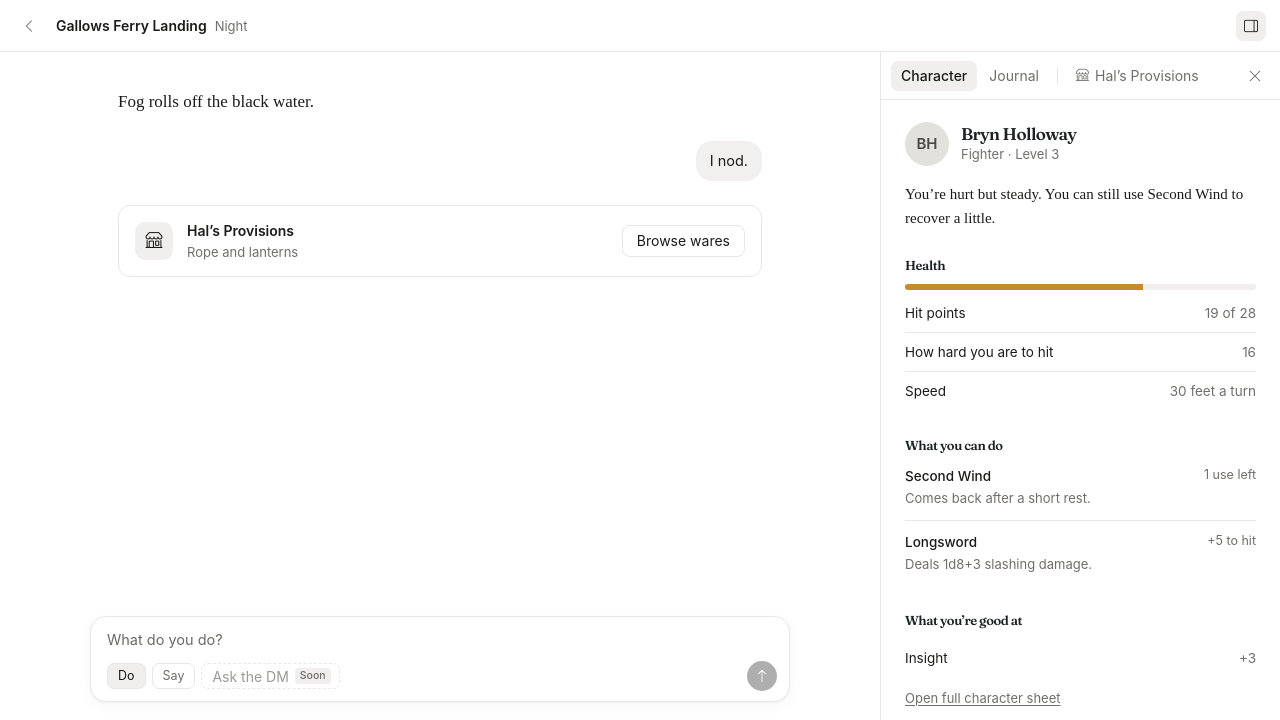
Test case: announces a shop in the story and opens its contextual tab as a placeholder
The image size is (1280, 720).
Click the button "Browse wares" at (683, 241), box [622,225,745,257]
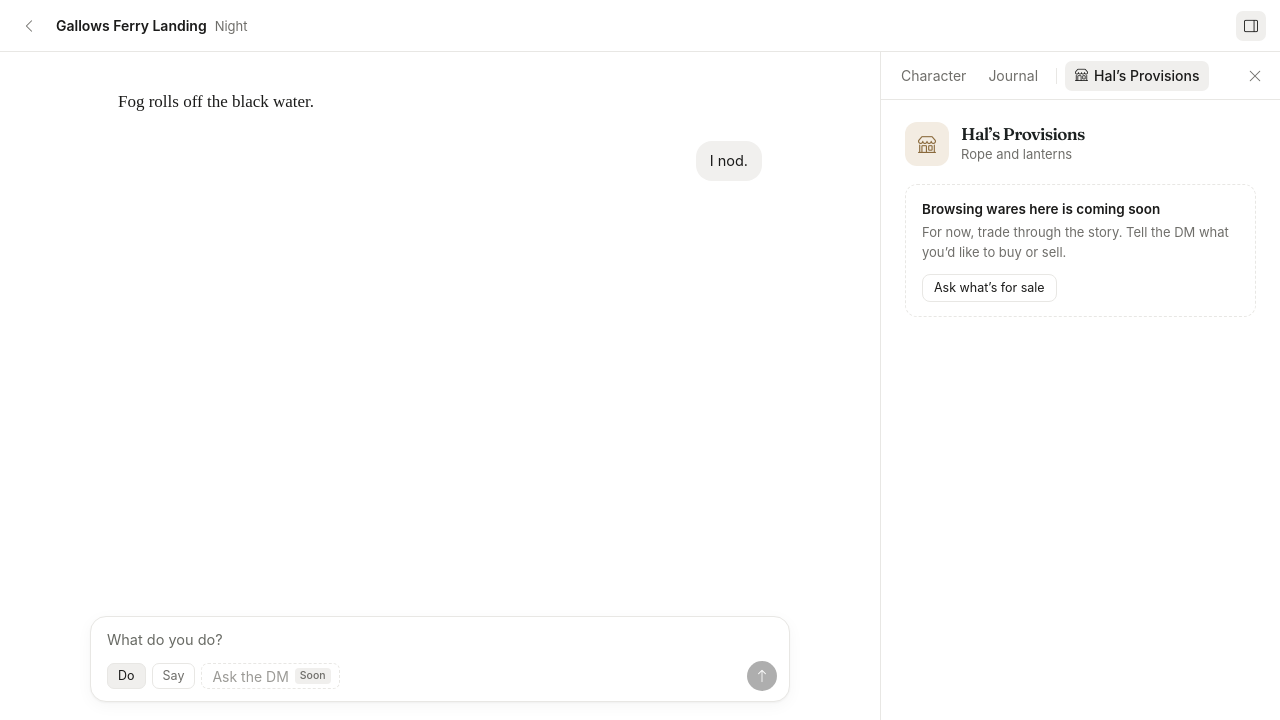
Expected: the panel with class "tv-view" shows "Browsing wares here is coming soon", [922,201,1160,217]
Click the button "Ask what’s for sale" at (989, 288), box [922,274,1057,302]
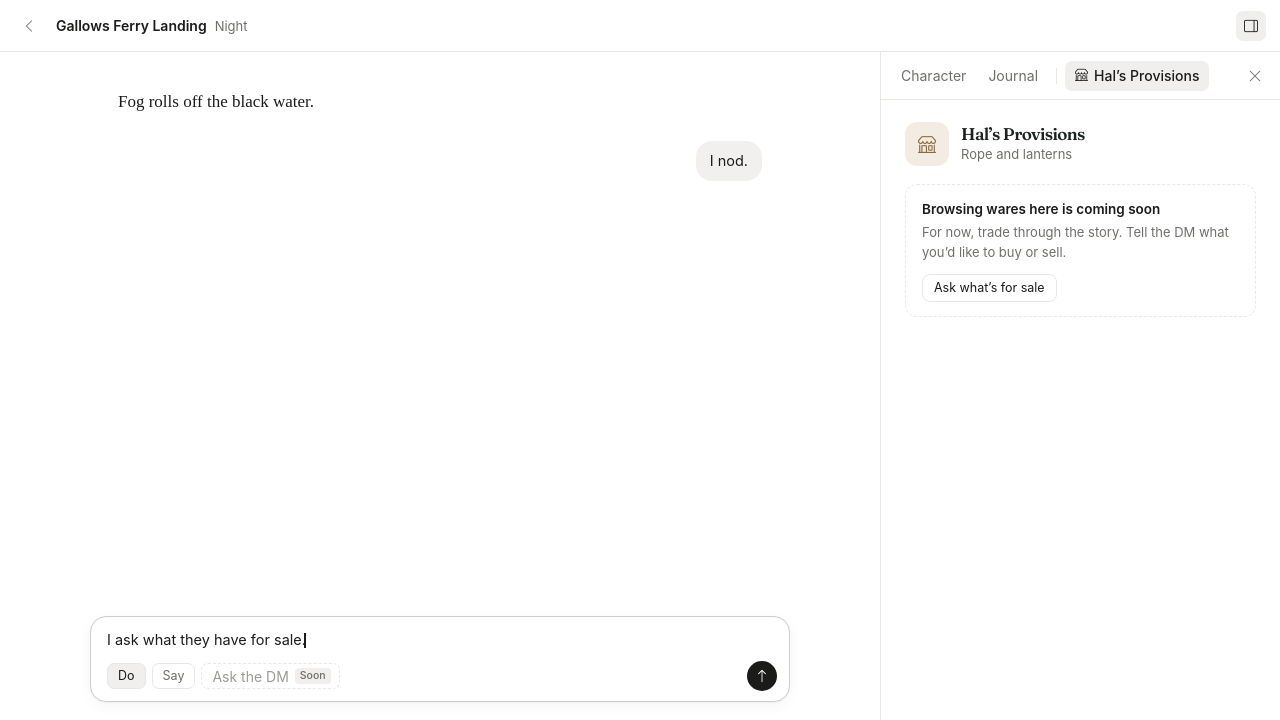
Expected: the text box named "Message" holds "I ask what they have for sale.", [107,629,777,651]
